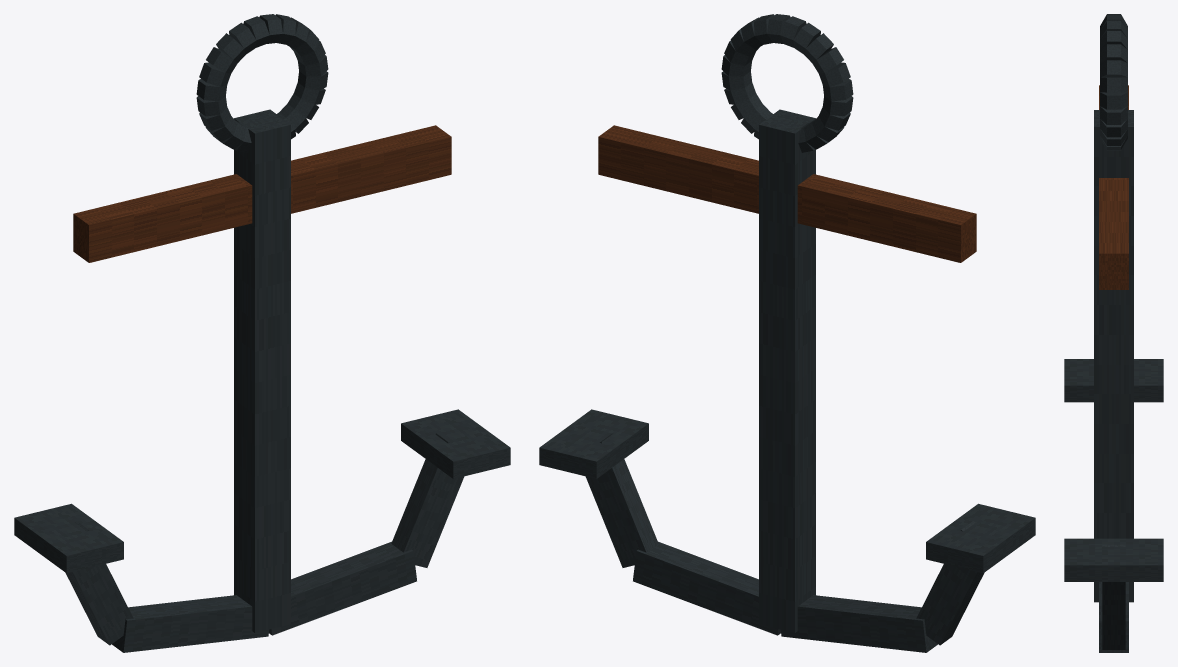
Rendered from SM_anchor.gltf.
3 renders of one model, left to right at view 1: azimuth 30°, elevation 25°; view 2: azimuth 150°, elevation 25°; view 3: azimuth 270°, elevation 25°, orthographic. The views are drawn at different scales.
Parts seen in each view (by area): view 1: root; view 2: root; view 3: root.
Boxes of the visible parts, left/top/right/bottom form: root: left=14, top=14, right=510, bottom=652; root: left=539, top=14, right=1035, bottom=652; root: left=1064, top=14, right=1163, bottom=652.
Size of the model in its own units: 1.47 by 1.94 by 0.3.
Materials: 2 (2 with a texture image).
